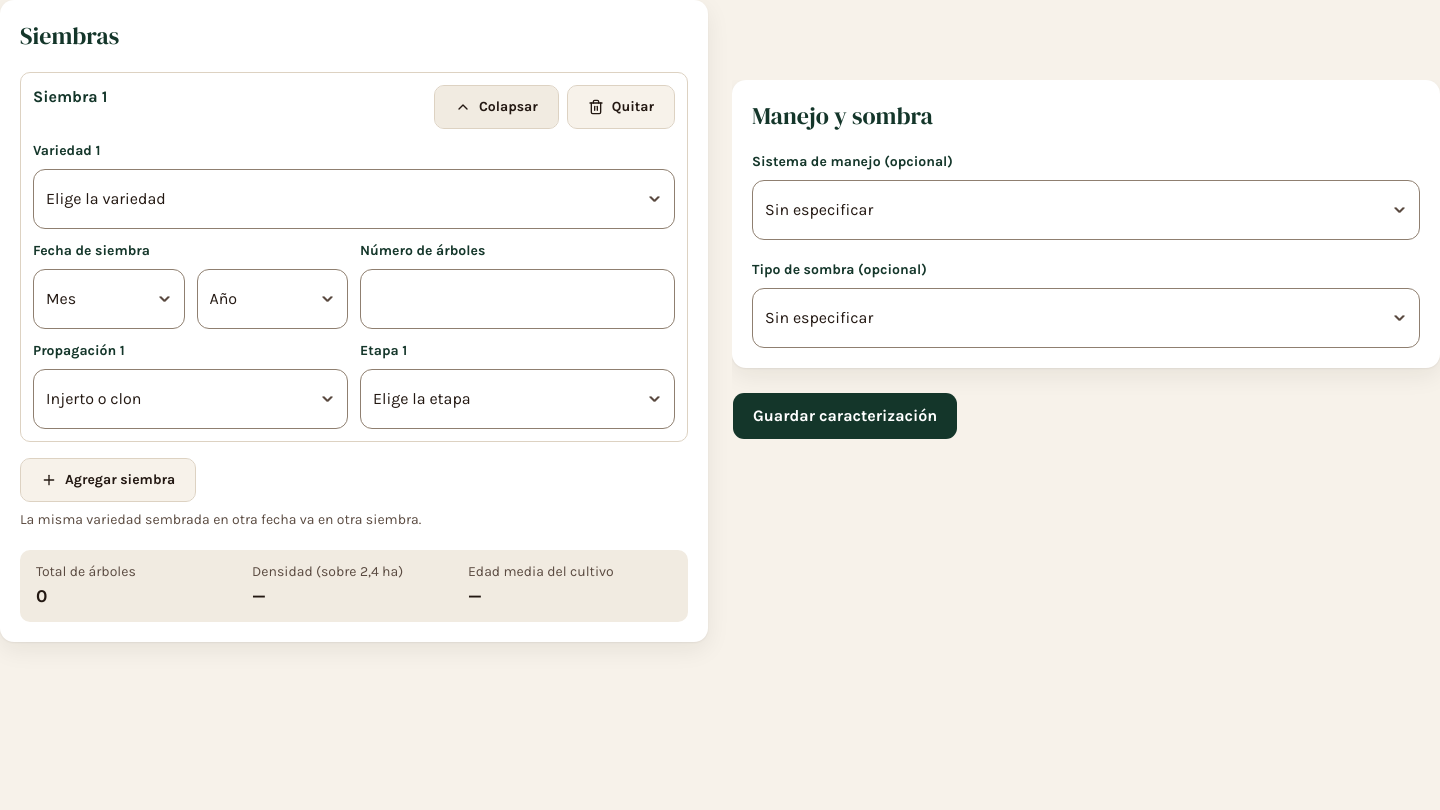
Test: CharacterizationForm › marks a half-chosen planting date only after leaving both lists
The image size is (1440, 810).
Select "Marzo" in the 1st dropdown named "Mes de siembra 1" at (109, 299), box x1=33 y1=269 x2=184 y2=329
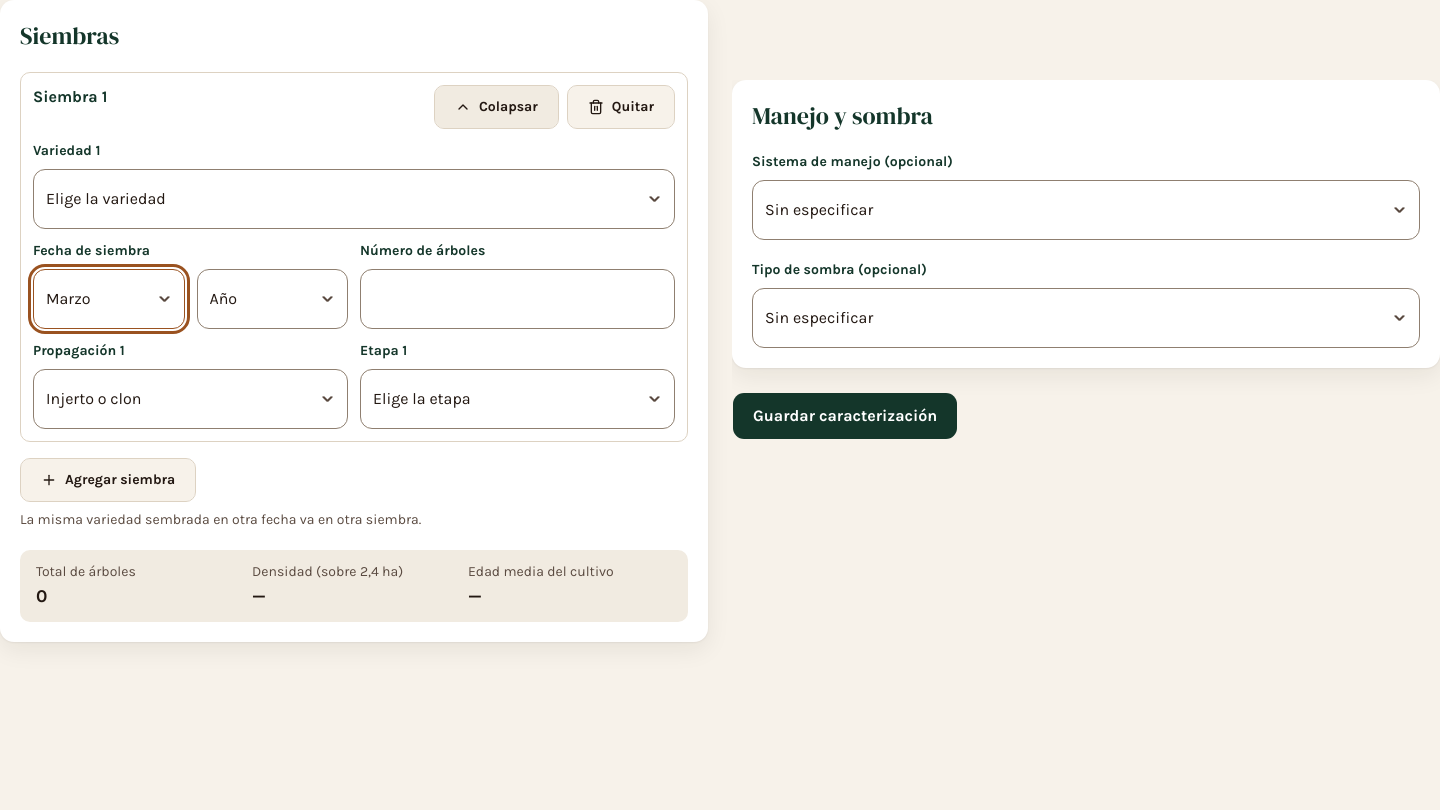
Click the 2nd dropdown named "Año de siembra 1" at (272, 299), box x1=196 y1=269 x2=348 y2=329
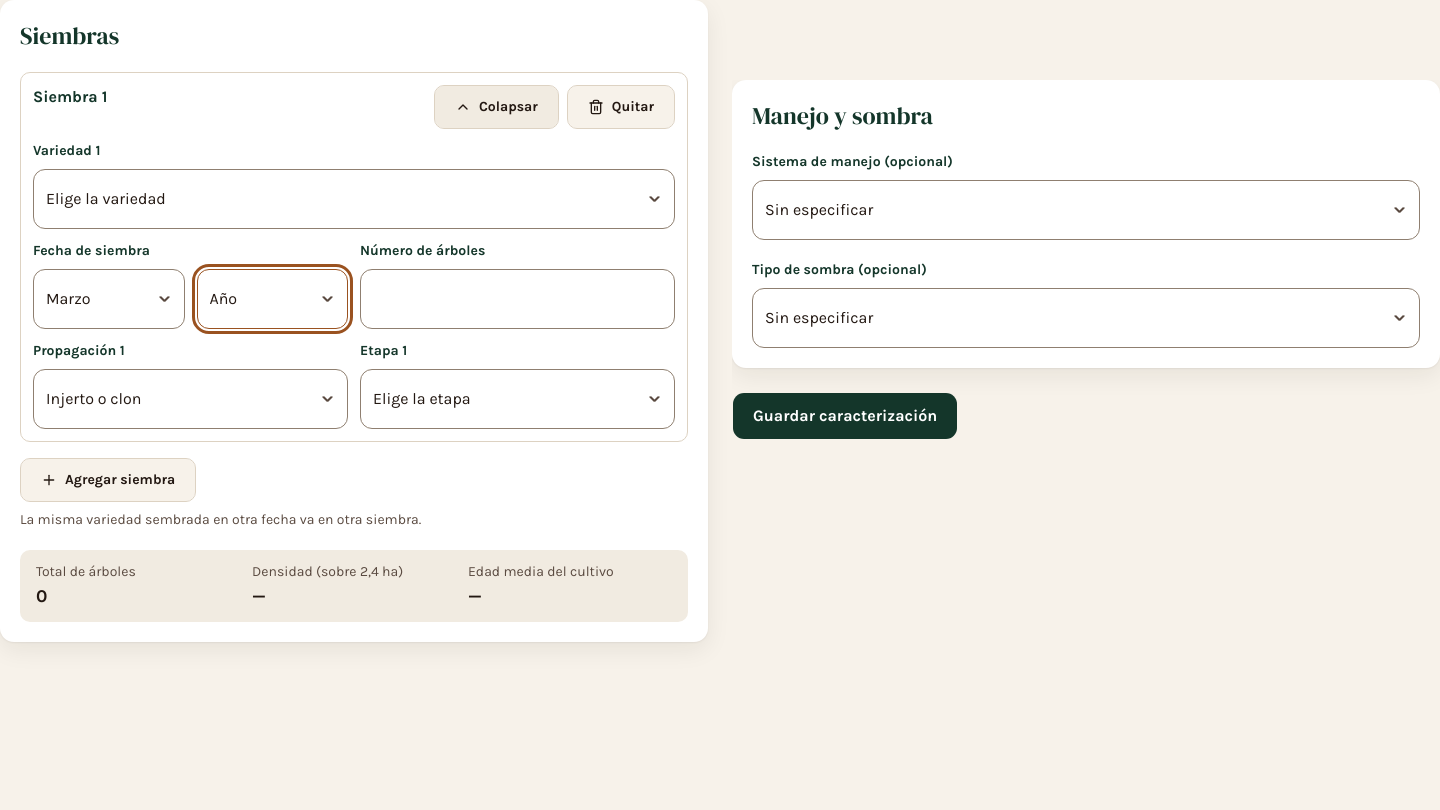
Expected: the text "Ingresa el mes y el año de siembra." is not shown
Click the dropdown labelled "Etapa 1" at (518, 399), box x1=360 y1=369 x2=675 y2=429
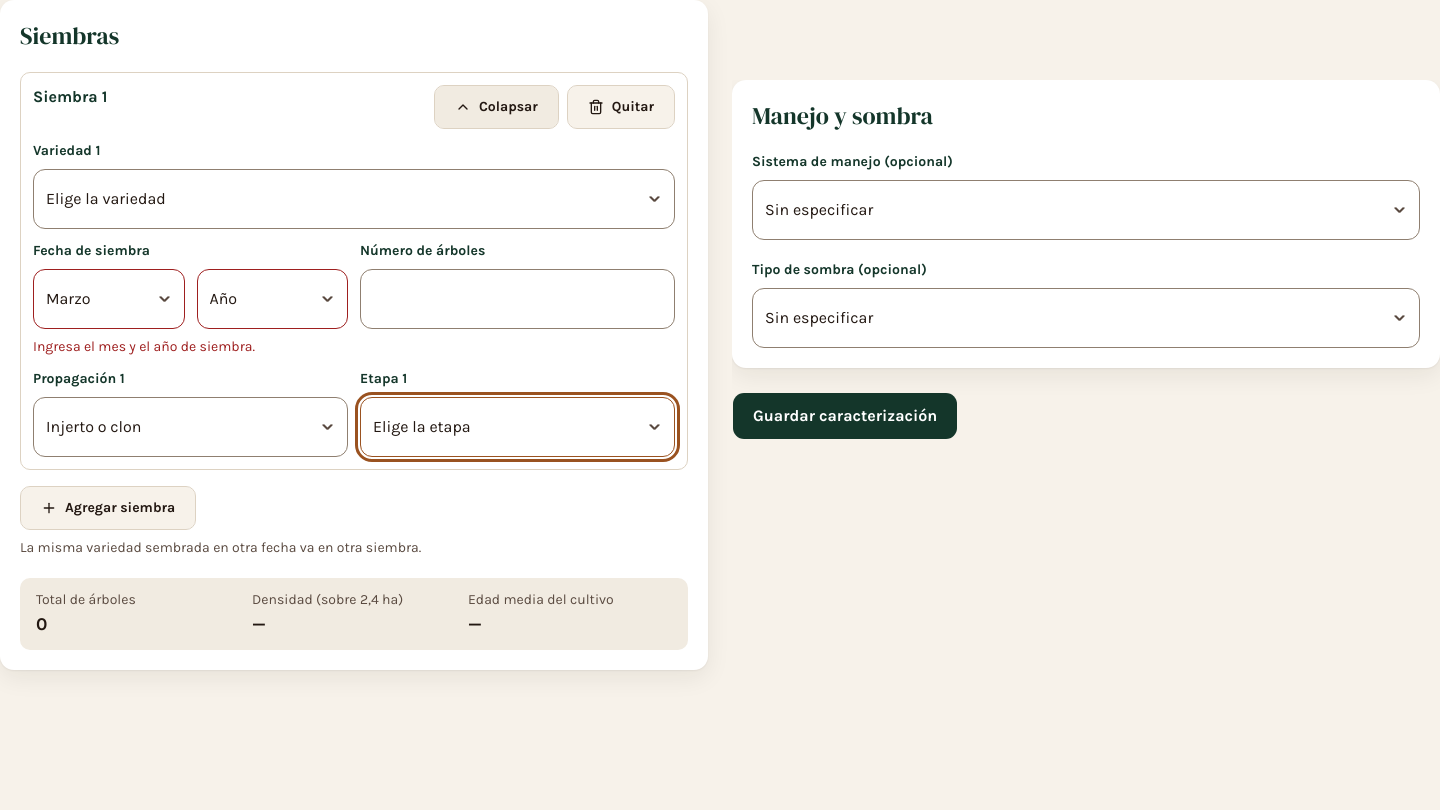
Expected: the text "Ingresa el mes y el año de siembra." is shown, x1=33 y1=338 x2=255 y2=355
